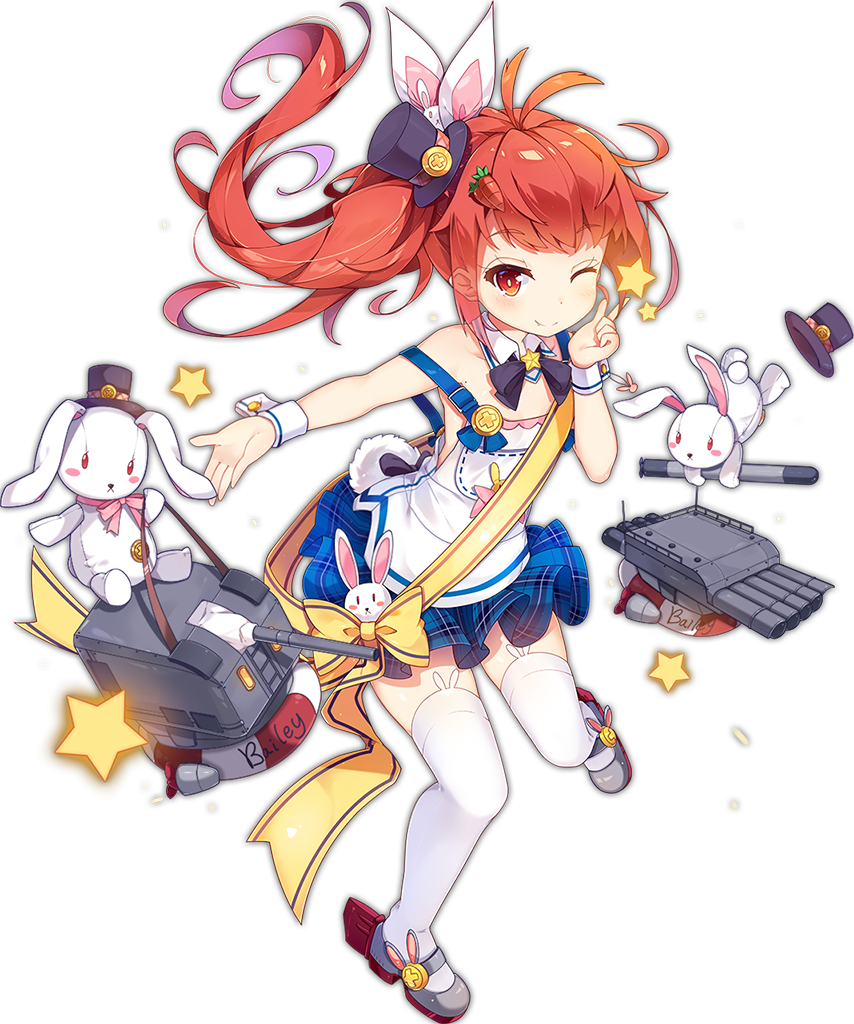person: (220, 107, 658, 871)
